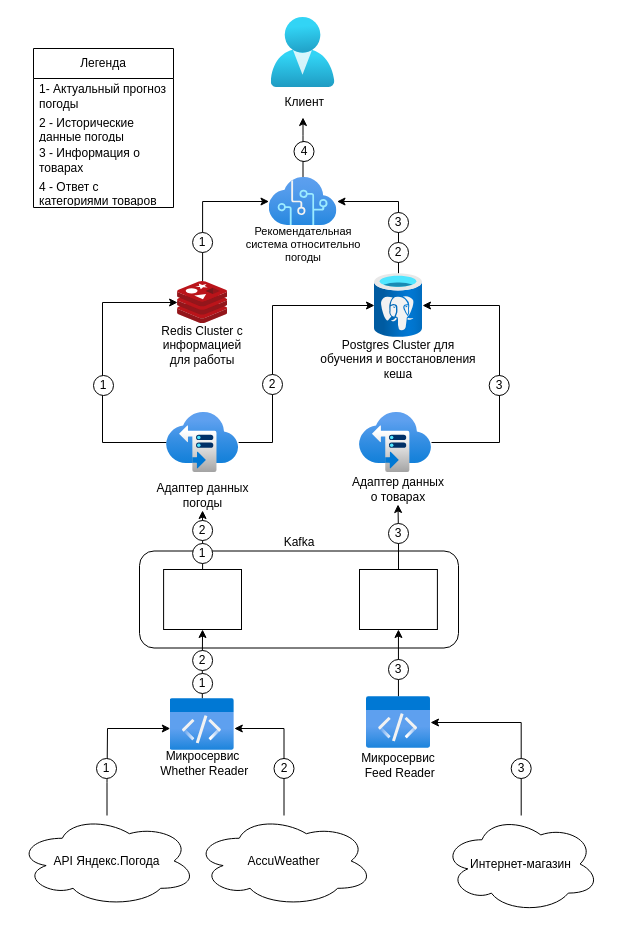
Some shapes in this 618 by 930 pixel diagram are drawn without their labels. The shapes that lost their labels are listed below. From the top down, each one's centre as x and y in pixels, then its label:
the point at 202,599: Очередь данных о погоде
the point at 397,599: Очередь данных о товарах
